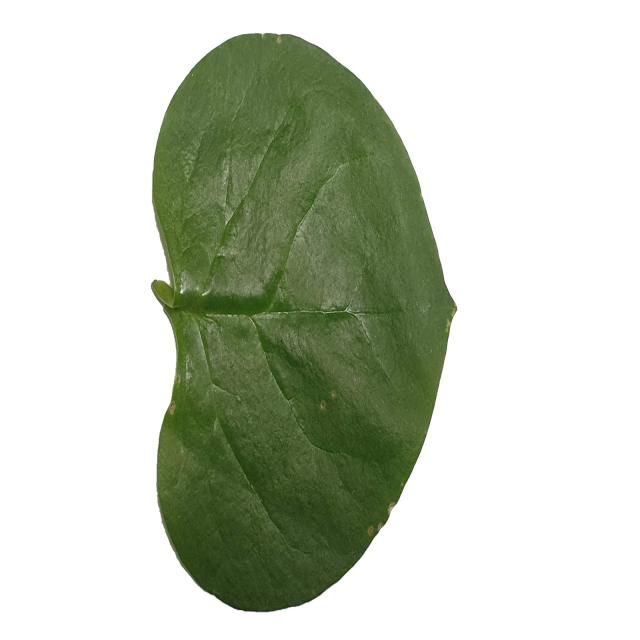Medicinal-Basale: (150, 31, 459, 612)
